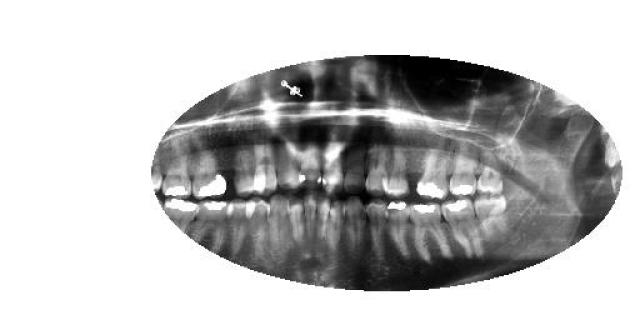Fillings: (410, 201, 452, 264), (440, 198, 482, 260), (415, 146, 454, 199), (192, 149, 226, 199), (448, 145, 478, 197), (196, 202, 229, 248), (161, 197, 199, 235), (162, 150, 192, 198), (386, 199, 410, 259)
